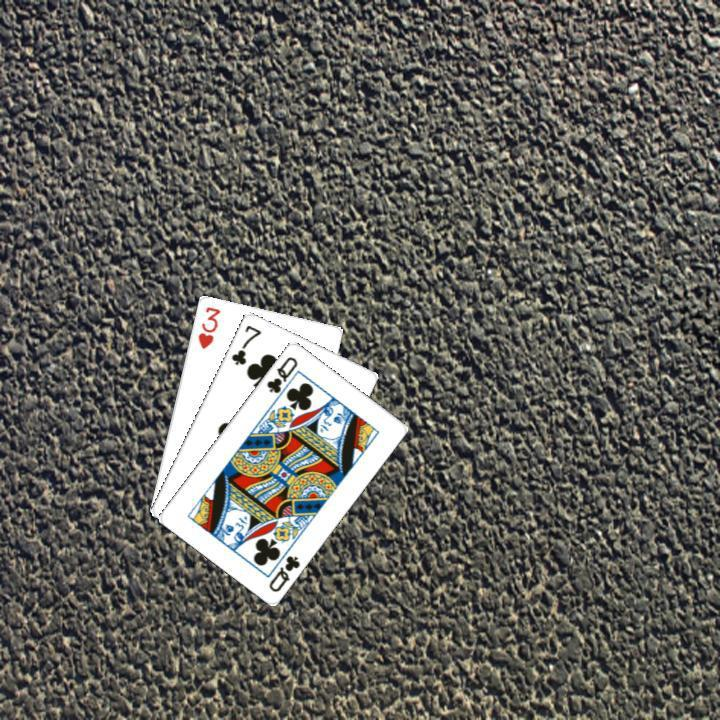3: (193, 302, 222, 351)
7: (227, 320, 263, 367)
Q: (264, 550, 302, 594), (262, 352, 300, 395)
